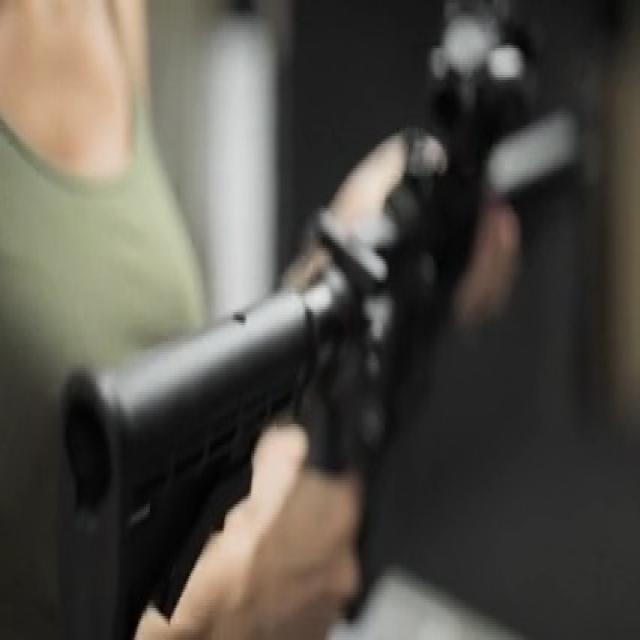Gun_Holder: (49, 49, 640, 640)
